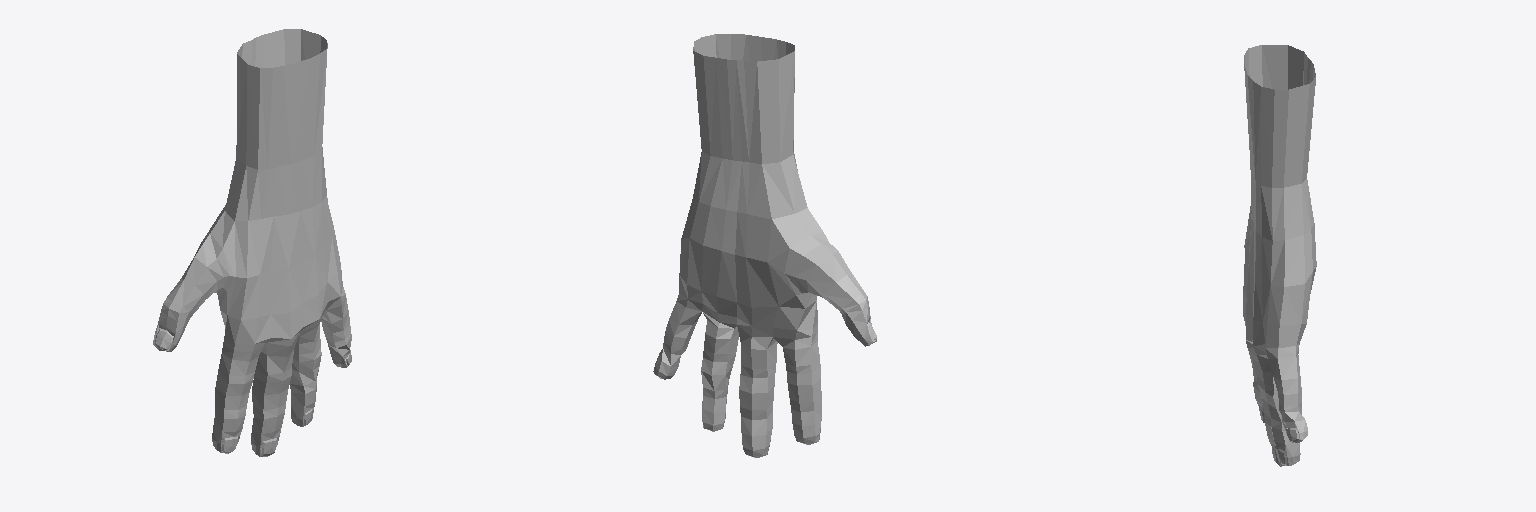
File: handAnimated4_000080.obj
3 views of the same model, side by side, from view 1: azimuth 30°, elevation 25°; view 2: azimuth 150°, elevation 25°; view 3: azimuth 270°, elevation 25° (orthographic).
Parts seen in each view (by area): view 1: Cube.000_Cube.017_Detached_Detached; view 2: Cube.000_Cube.017_Detached_Detached; view 3: Cube.000_Cube.017_Detached_Detached.
Part boxes in pixels (x1,y1,x2,y2): Cube.000_Cube.017_Detached_Detached: (153,29,351,456); Cube.000_Cube.017_Detached_Detached: (653,34,876,457); Cube.000_Cube.017_Detached_Detached: (1243,45,1316,466).
Size of the model in its own units: 0.7201 by 1.34 by 0.2201.